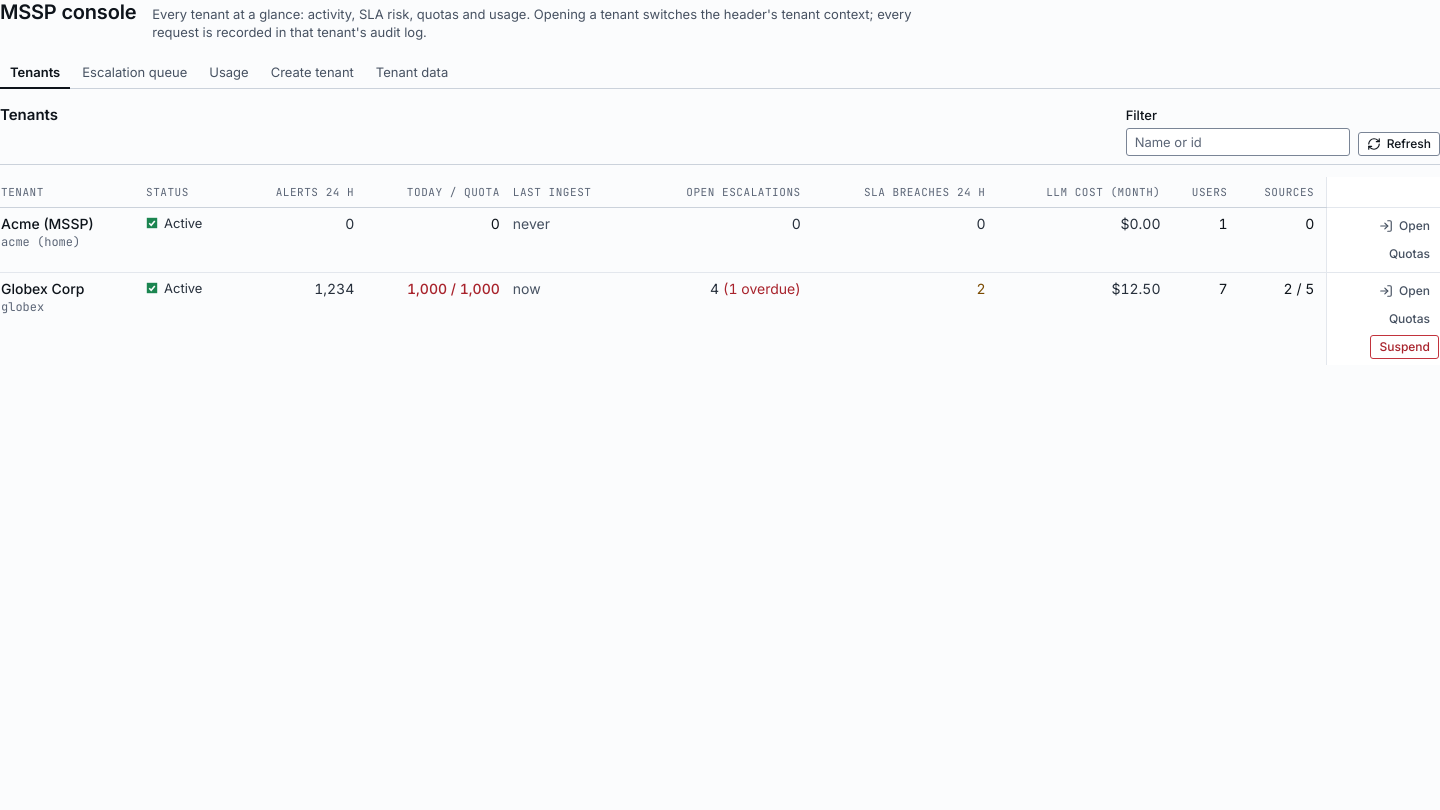
Test case: MSSP console › lists tenants with their figures and suspends one after confirmation
Later steps or results of the test are not shown.
Expected: the text "1,000 / 1,000" is shown, [366,272,512,365]
Expected: the text "(1 overdue)" is shown, [723,280,801,297]
Step 1. Click the button "Suspend" → (1405, 347), box [1370,335,1439,359]
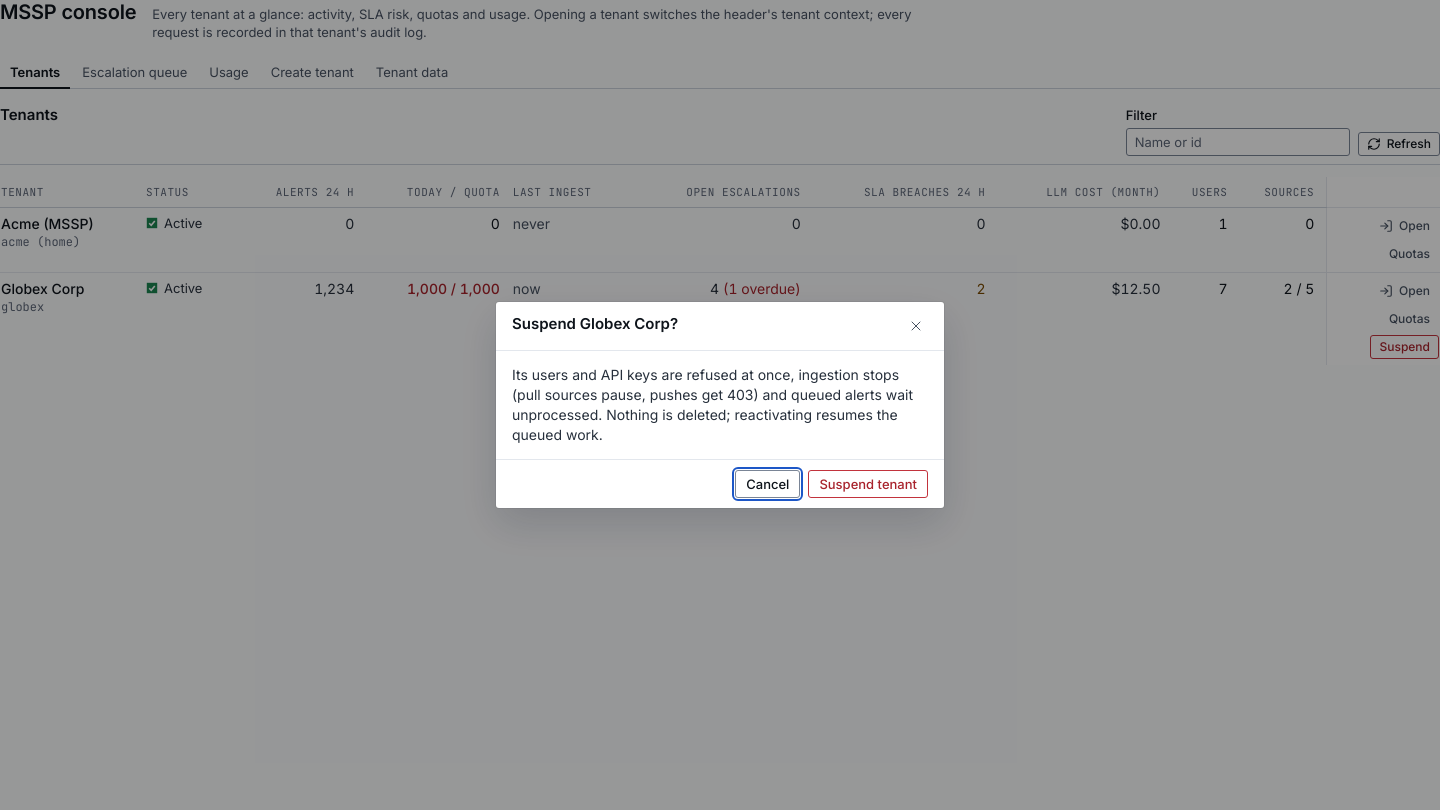
Now the dialog "Suspend Globex Corp" shows "refused at once", box [512,366,913,443]
